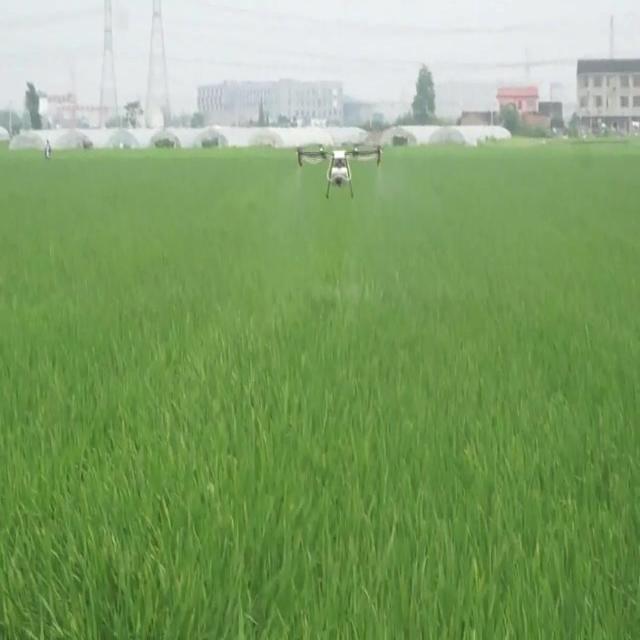drone: (293, 142, 388, 202)
